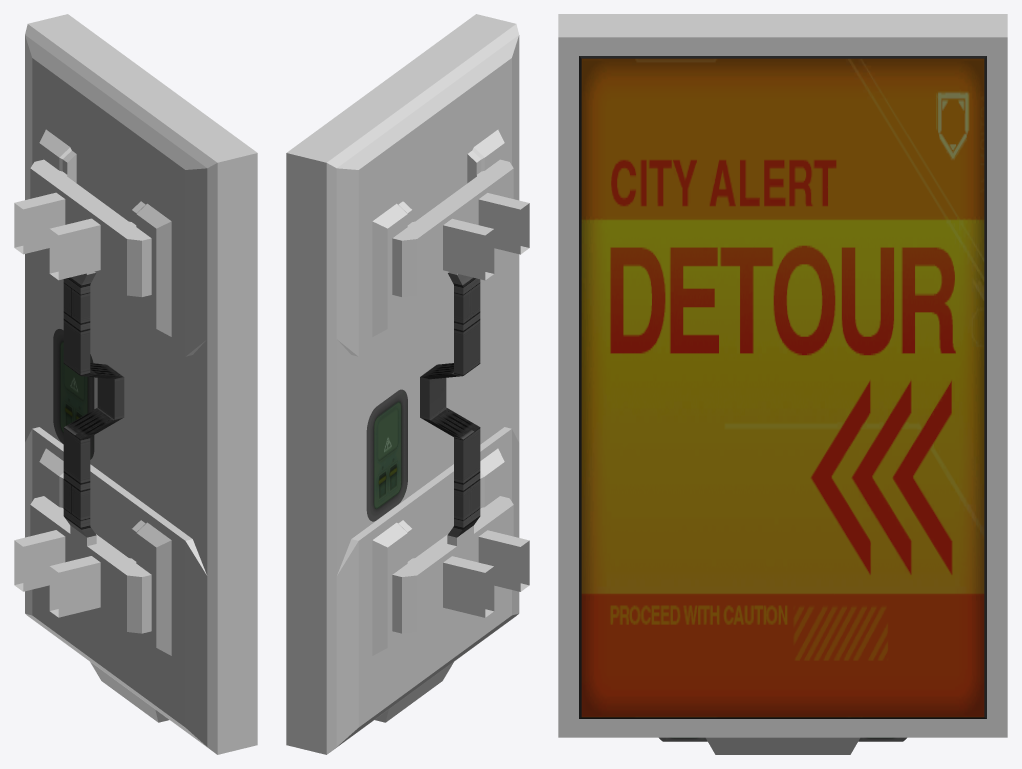
Rendered from future-sign2.obj.
3 views of the same model, side by side, from view 1: azimuth 30°, elevation 25°; view 2: azimuth 150°, elevation 25°; view 3: azimuth 270°, elevation 25° (orthographic). The views are drawn at different scales.
Parts seen in each view (by area): view 1: Mesh1 NM_Sign_Variety_D1 Model, Mesh2 NM_Sign_Variety_D1 Model; view 2: Mesh1 NM_Sign_Variety_D1 Model, Mesh2 NM_Sign_Variety_D1 Model; view 3: Mesh1 NM_Sign_Variety_D1 Model.
Boxes of the visible parts, bbox=[...] form: Mesh1 NM_Sign_Variety_D1 Model: bbox=[14, 14, 257, 754]; Mesh2 NM_Sign_Variety_D1 Model: bbox=[53, 329, 94, 459]; Mesh1 NM_Sign_Variety_D1 Model: bbox=[286, 14, 529, 754]; Mesh2 NM_Sign_Variety_D1 Model: bbox=[366, 389, 407, 521]; Mesh1 NM_Sign_Variety_D1 Model: bbox=[558, 14, 1007, 754].
Bounding box in the file's own units: 1.39 × 6.37 × 3.59.
